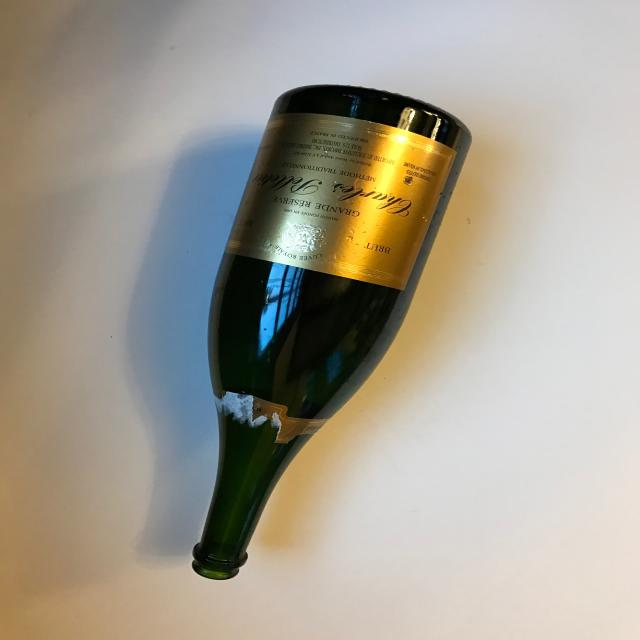glass: (190, 83, 472, 580)
